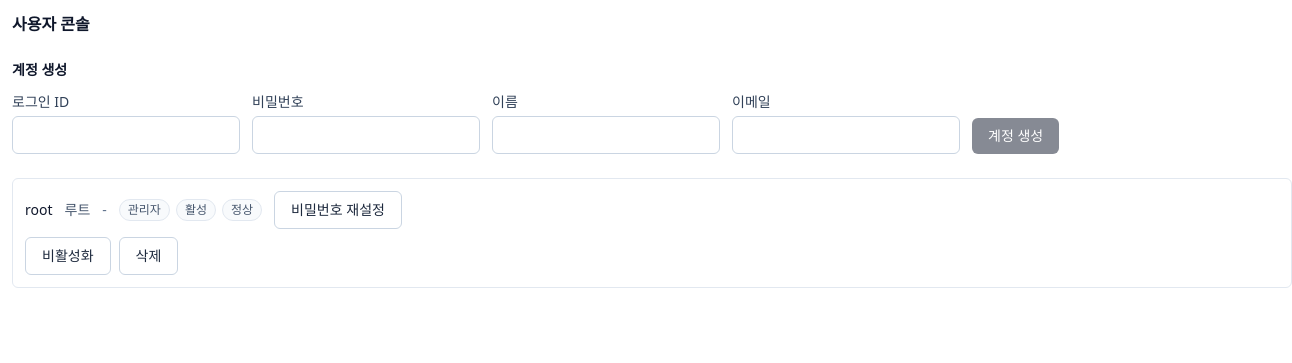
it: AdminUserPanel — 계정 생성 결선(Req 5.2) › 중복 login_id 409 는 ErrorMessage 로 표시된다 (Req 5.7)
Expected: the text "root" is shown, [25,200,52,220]
Type "root" into the field labelled "로그인 ID" at (126, 135), box [12,116,240,154]
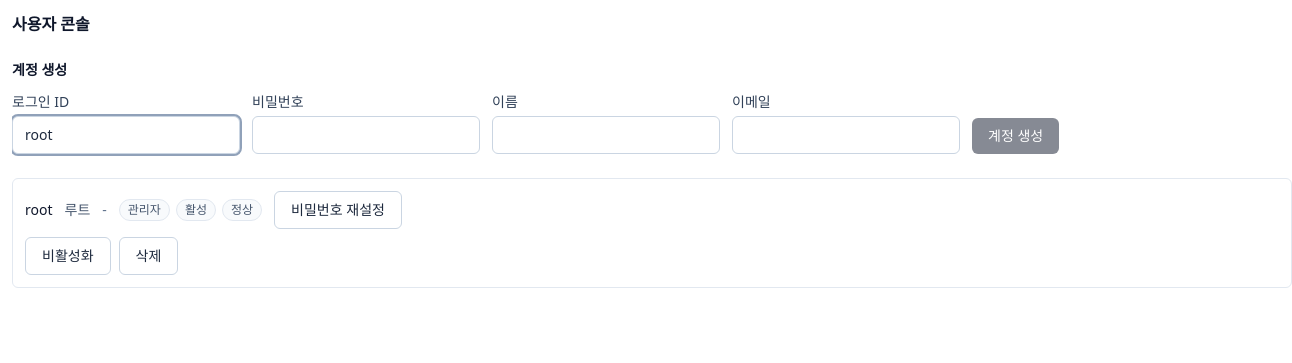
Type "pw12345678" into the password field labelled "비밀번호" at (366, 135), box [252,116,480,154]
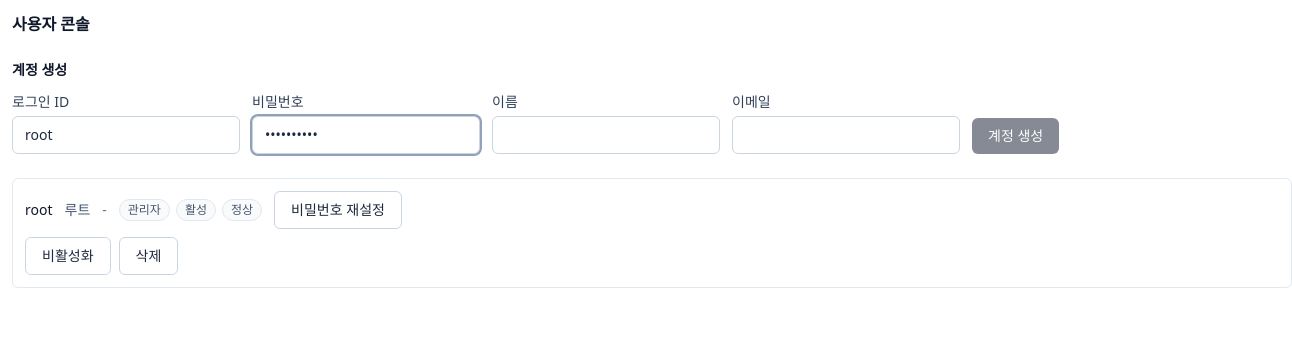
Type "중복" into the field labelled "이름" at (606, 135), box [492,116,720,154]
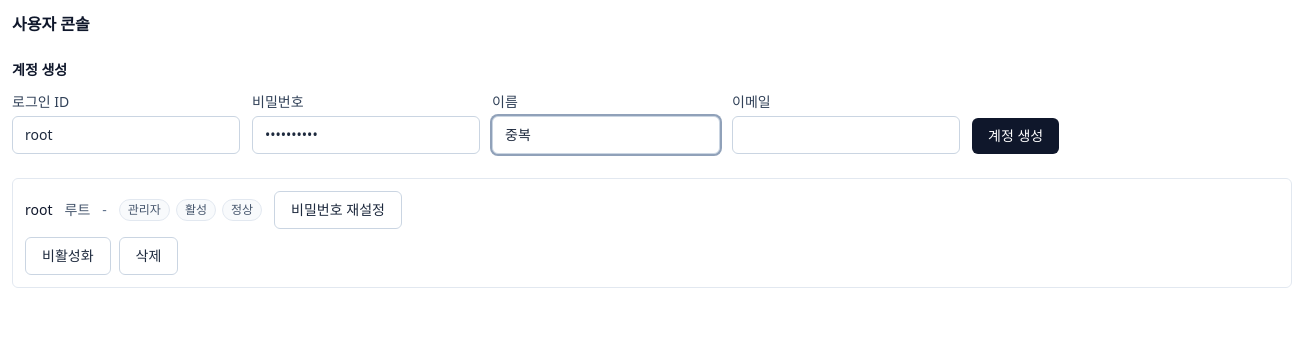
Click the button "계정 생성" at (1016, 136), box [972,118,1059,154]
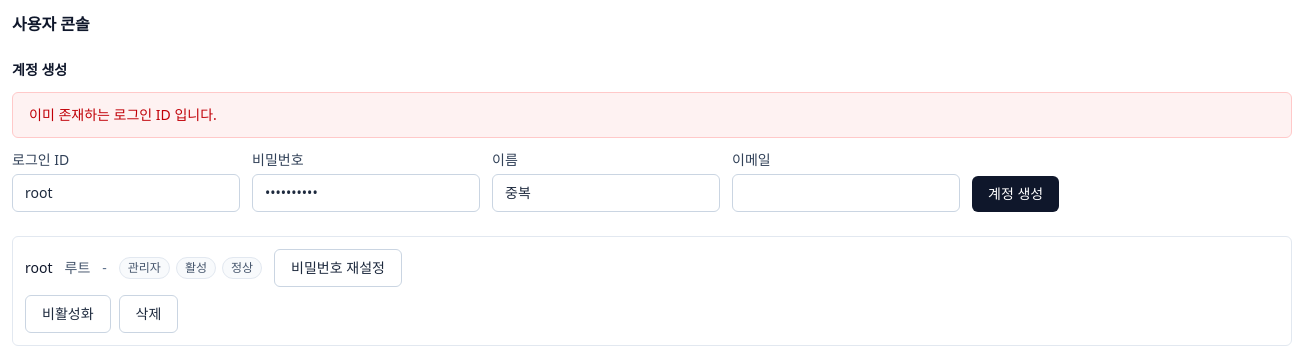
Result: the text "이미 존재하는 로그인 ID 입니다." is shown at [29,105,217,124]
